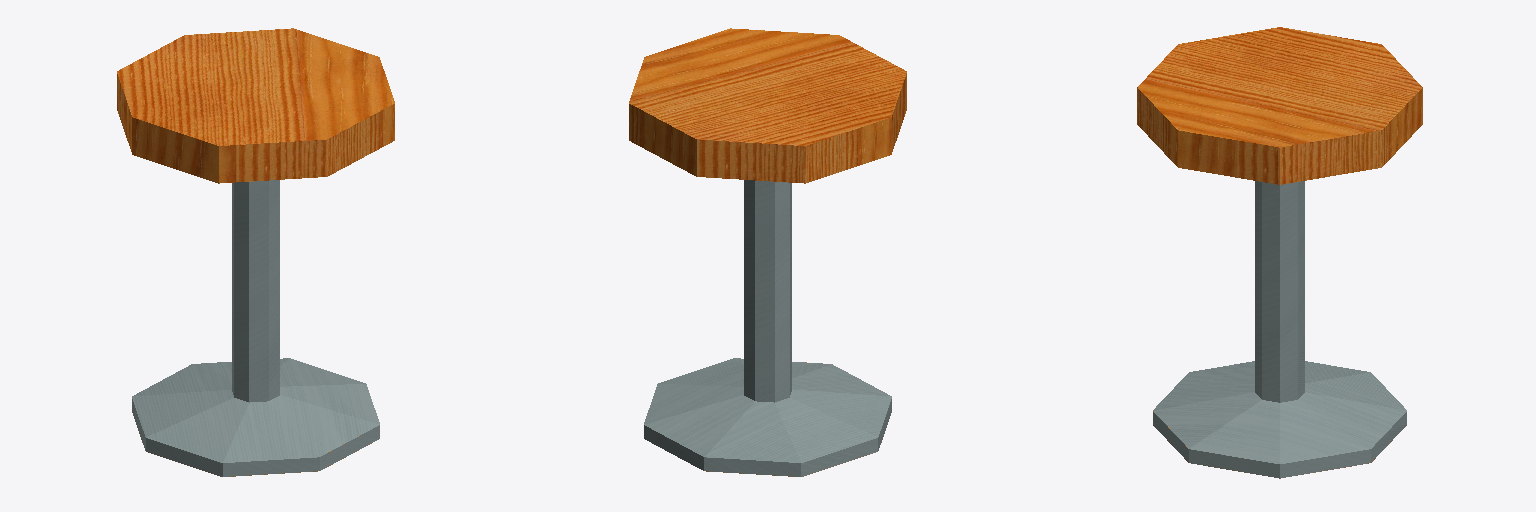
The picture shows the model from 3 angles: view 1: azimuth 30°, elevation 25°; view 2: azimuth 150°, elevation 25°; view 3: azimuth 270°, elevation 25°; orthographic projection.
Visible parts, largest first — view 1: Cube.002; view 2: Cube.002; view 3: Cube.002.
Boxes of the visible parts, <box> form: Cube.002: <box>117,28,394,476</box>; Cube.002: <box>629,28,906,476</box>; Cube.002: <box>1137,27,1422,478</box>.
Bounding box in the file's own units: 0.7419 × 0.9679 × 0.7419.
1 materials, 1 textured.